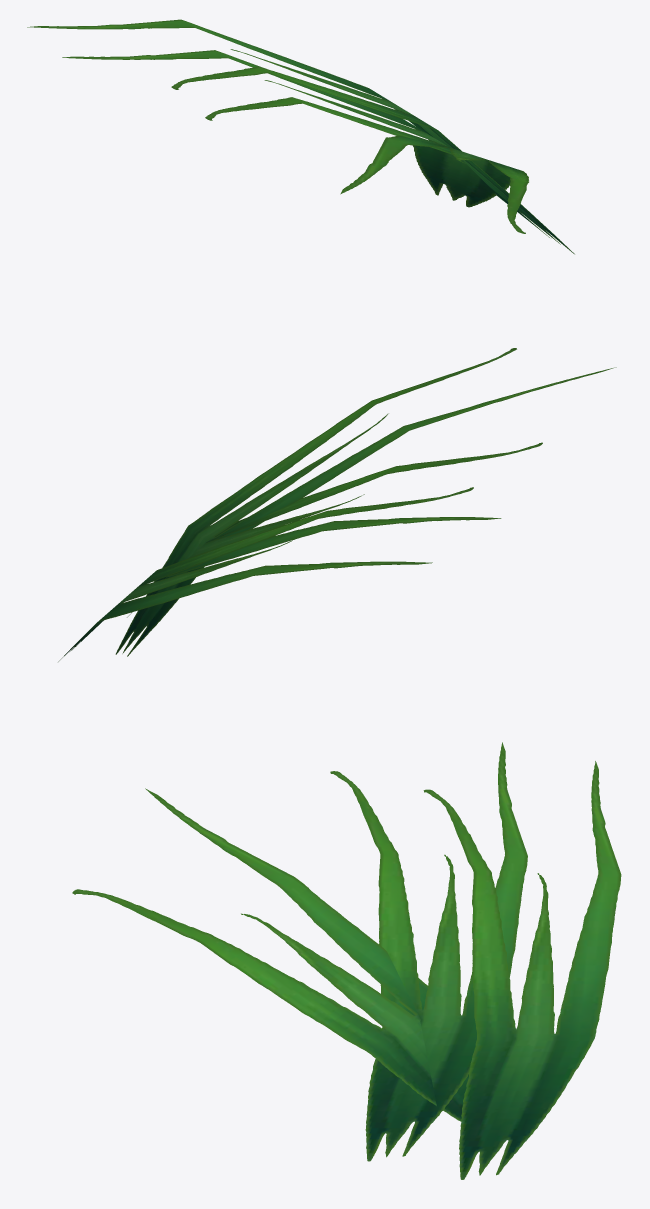
Rendered from map_xuanren_shu_8.fbx.
The picture shows the model from 3 angles, top to bottom: view 1: azimuth 30°, elevation 25°; view 2: azimuth 150°, elevation 25°; view 3: azimuth 270°, elevation 25°; orthographic projection. The views are drawn at different scales.
Visible parts, largest first — view 1: polySurface463; view 2: polySurface463; view 3: polySurface463.
Part boxes in pixels (left/top/right/bottom): polySurface463: left=27, top=19, right=574, bottom=254; polySurface463: left=58, top=348, right=616, bottom=661; polySurface463: left=72, top=742, right=621, bottom=1179.
Size of the model in its own units: 0.1425 by 0.08 by 0.1751.
